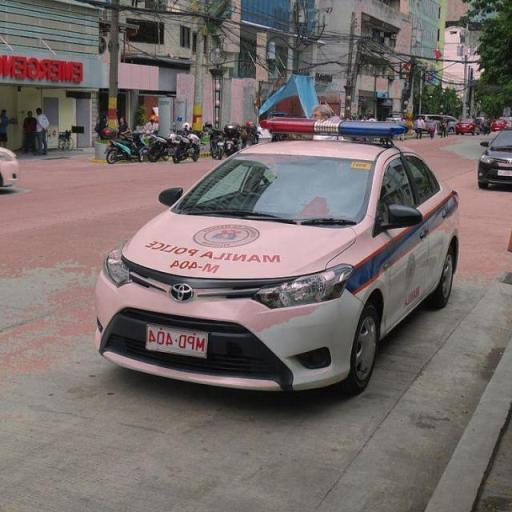Ambulance: (90, 120, 462, 404)
